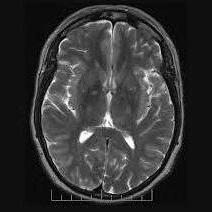Normal_Brain: (15, 1, 212, 212)
